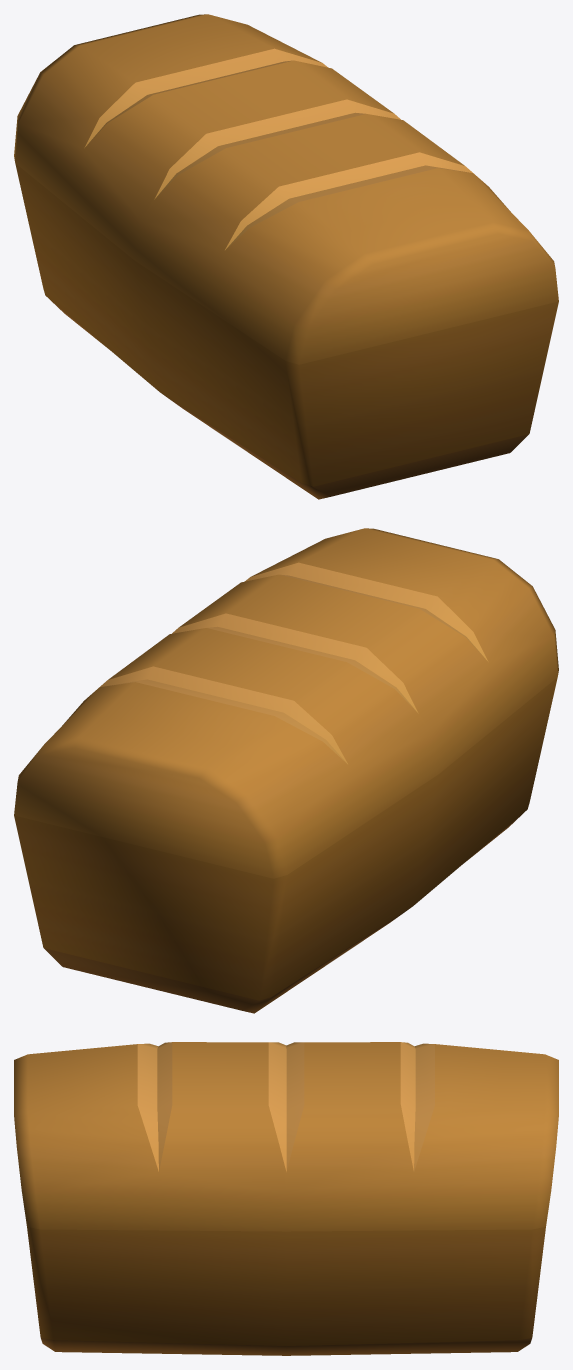
Rendered from Bread_1_B.fbx.
3 views of the same model, one above another, from view 1: azimuth 30°, elevation 25°; view 2: azimuth 150°, elevation 25°; view 3: azimuth 270°, elevation 25° (orthographic). The views are drawn at different scales.
Visible parts, largest first — view 1: Bread_1_B; view 2: Bread_1_B; view 3: Bread_1_B.
Part boxes in pixels (x1=…): Bread_1_B: x1=14, y1=14, x2=558, y2=499; Bread_1_B: x1=14, y1=528, x2=558, y2=1013; Bread_1_B: x1=14, y1=1042, x2=558, y2=1355.
Size of the model in its own units: 22.97 by 18.74 by 39.14.
